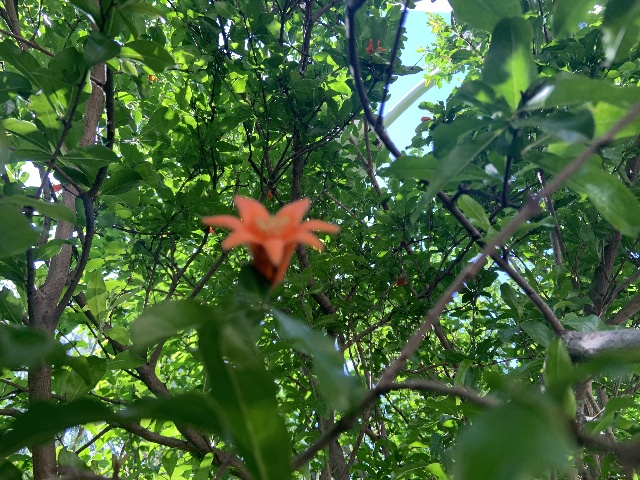bud: (420, 116, 433, 122)
flower: (201, 193, 340, 290), (365, 37, 386, 55), (51, 181, 62, 193), (395, 276, 406, 286), (266, 190, 272, 200)
